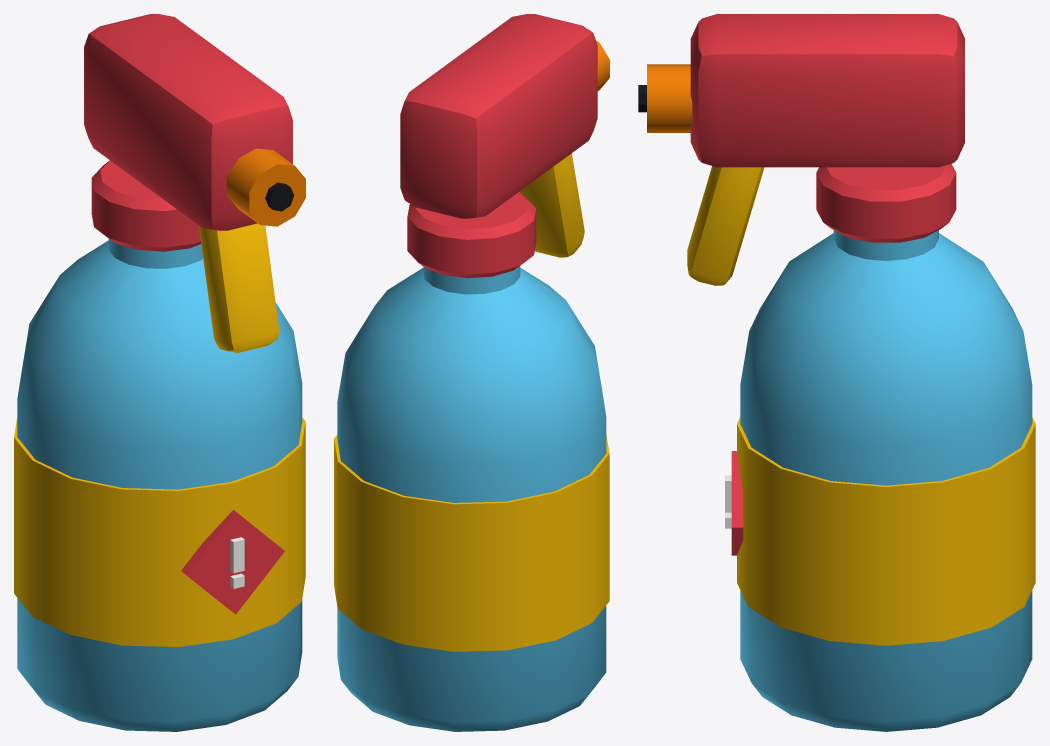
Rendered from spray_bottle.glb.
3 views of the same model, side by side, from view 1: azimuth 30°, elevation 25°; view 2: azimuth 150°, elevation 25°; view 3: azimuth 270°, elevation 25° (orthographic). The views are drawn at different scales.
Parts seen in each view (by area): view 1: body; view 2: body; view 3: body.
Boxes of the visible parts, bbox=[...] form: body: bbox=[14, 14, 305, 731]; body: bbox=[334, 14, 609, 731]; body: bbox=[638, 14, 1035, 731].
Bounding box in the file's own units: 10.24 × 24.5 × 13.62.
